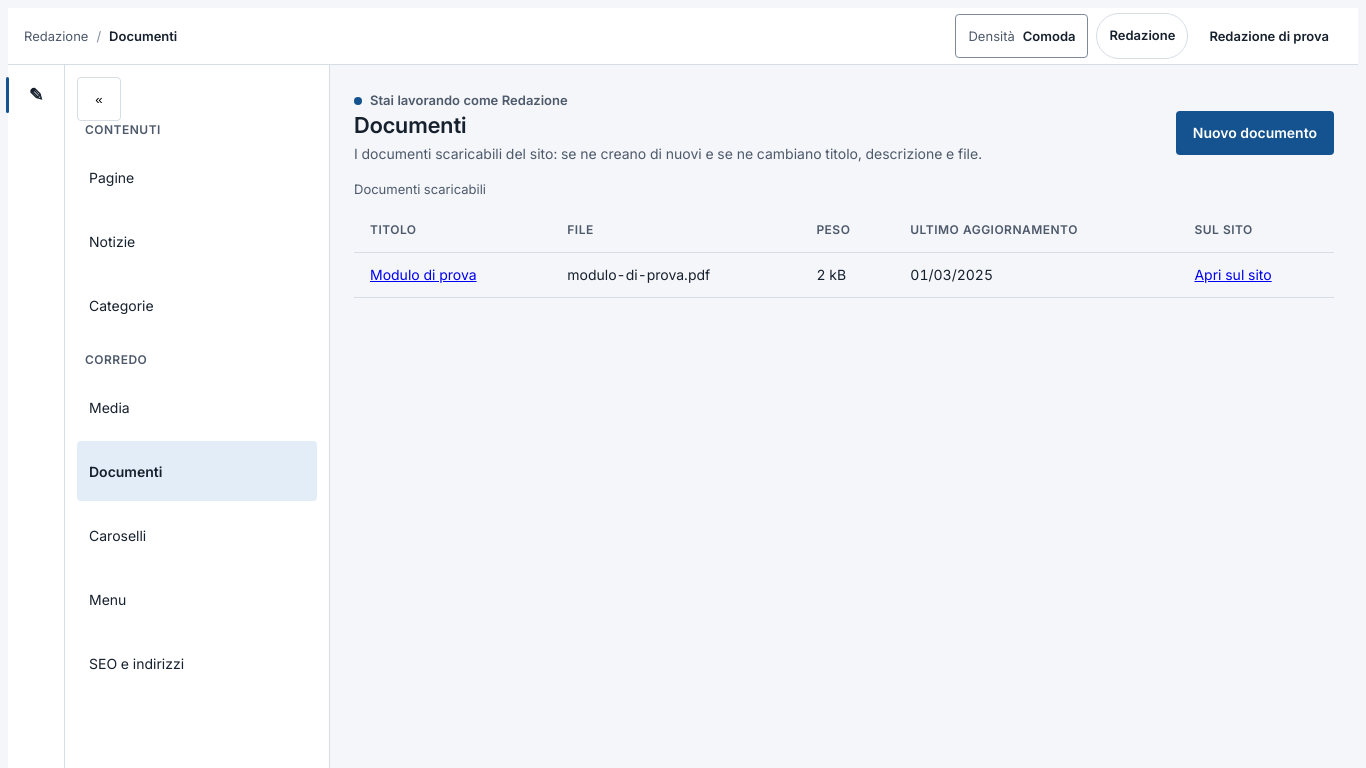
it: «Nuovo documento» nell’elenco › senza titolo o senza file non parte nulla e il motivo si legge
Expected: the row "Modulo di prova" is shown, [354,252,1334,297]
Click the button "Nuovo documento" at [1255, 133], box [1176,111,1334,155]
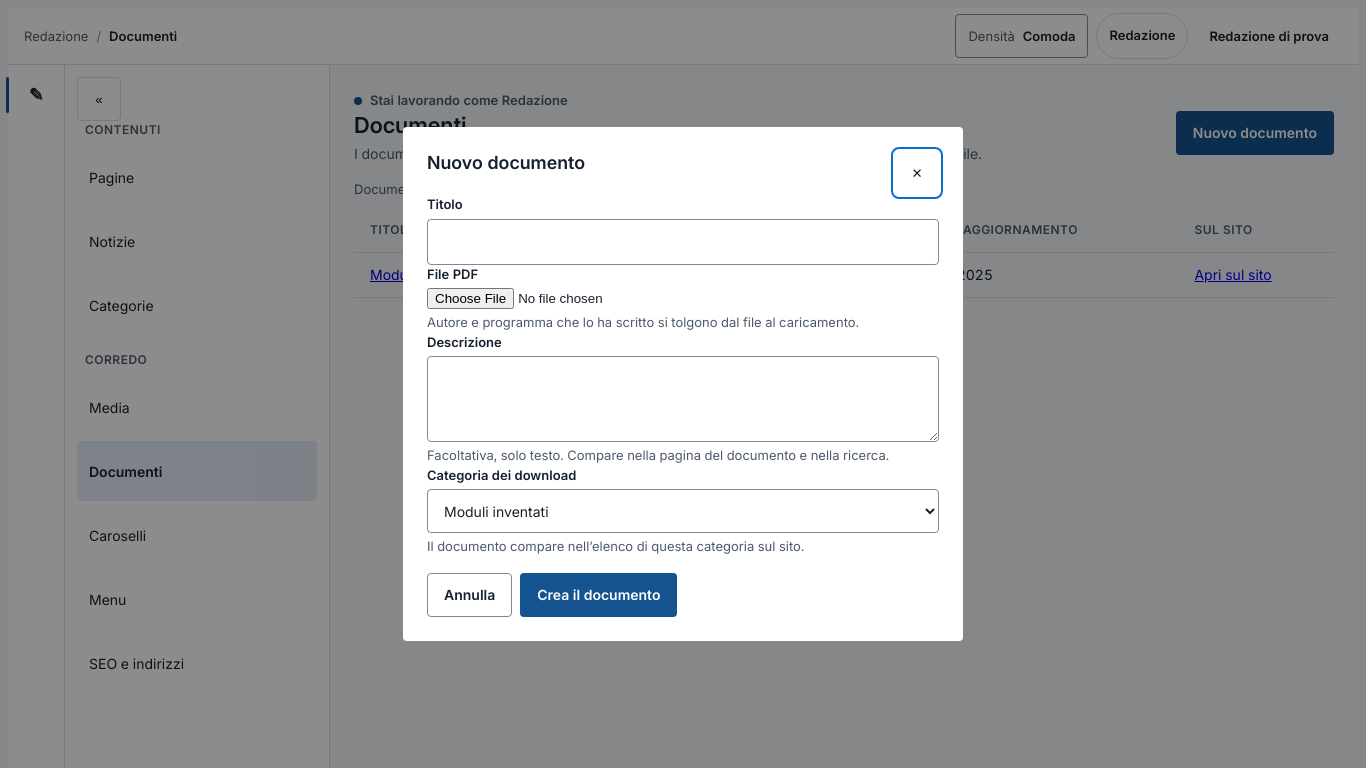
Click the button "Crea il documento" at [599, 595], box [520,573,678,617]
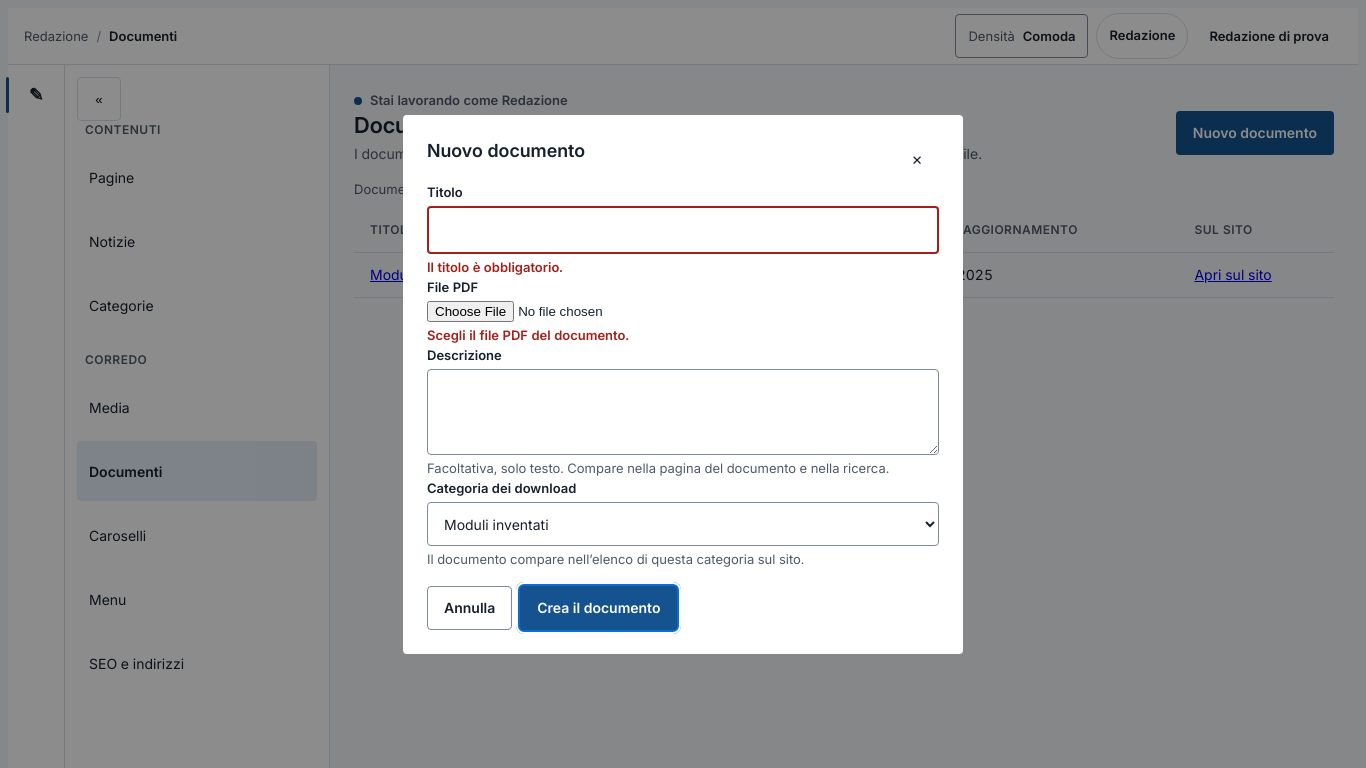
Now the text "Il titolo è obbligatorio." is shown, box [427,259,563,275]
Now the text "Scegli il file PDF del documento." is shown, box [427,327,629,343]
